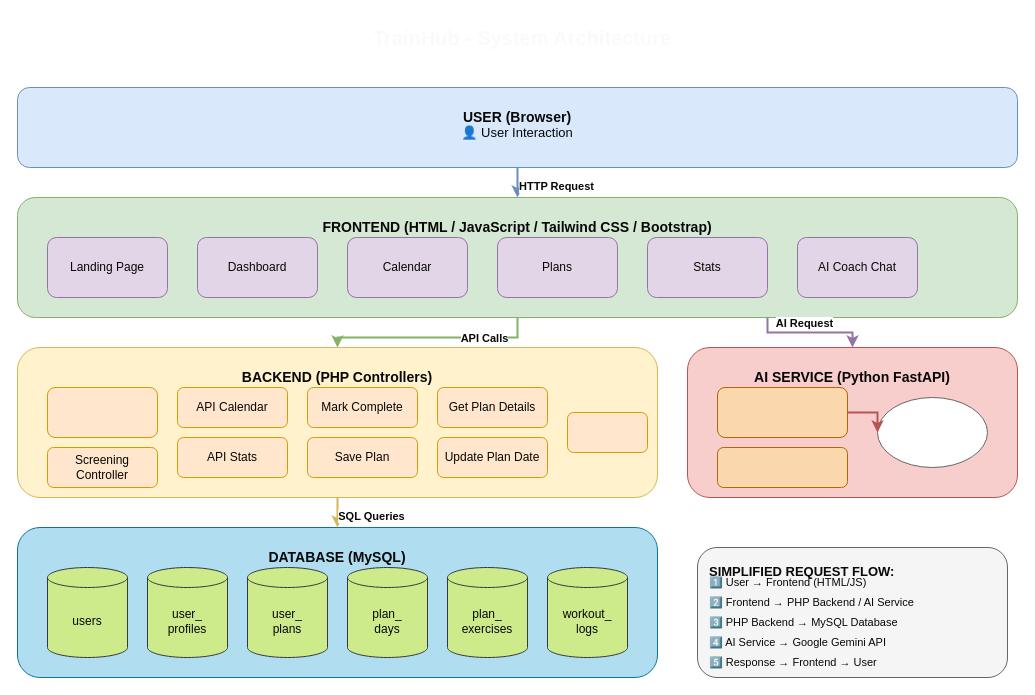
Some shapes in this 1035 by 695 pixel diagram are drawn without their labels. The centre of each missing label's shape, as x and y in pixels:
"/chat (Google Gemini 2.0 Lite)" goes at [782,467].
"/generate-plan (Google Gemini 2.0)" goes at [782,412].
"Delete Plan" goes at [607,432].
"Login / Register Logout" goes at [102,412].
"🤖 Google Gemini API" goes at [932,432].
